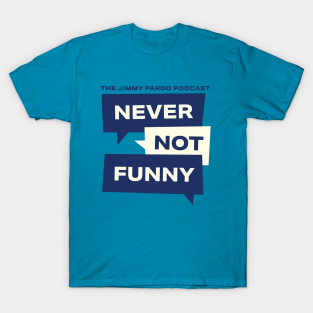design: (99, 83, 213, 207)
